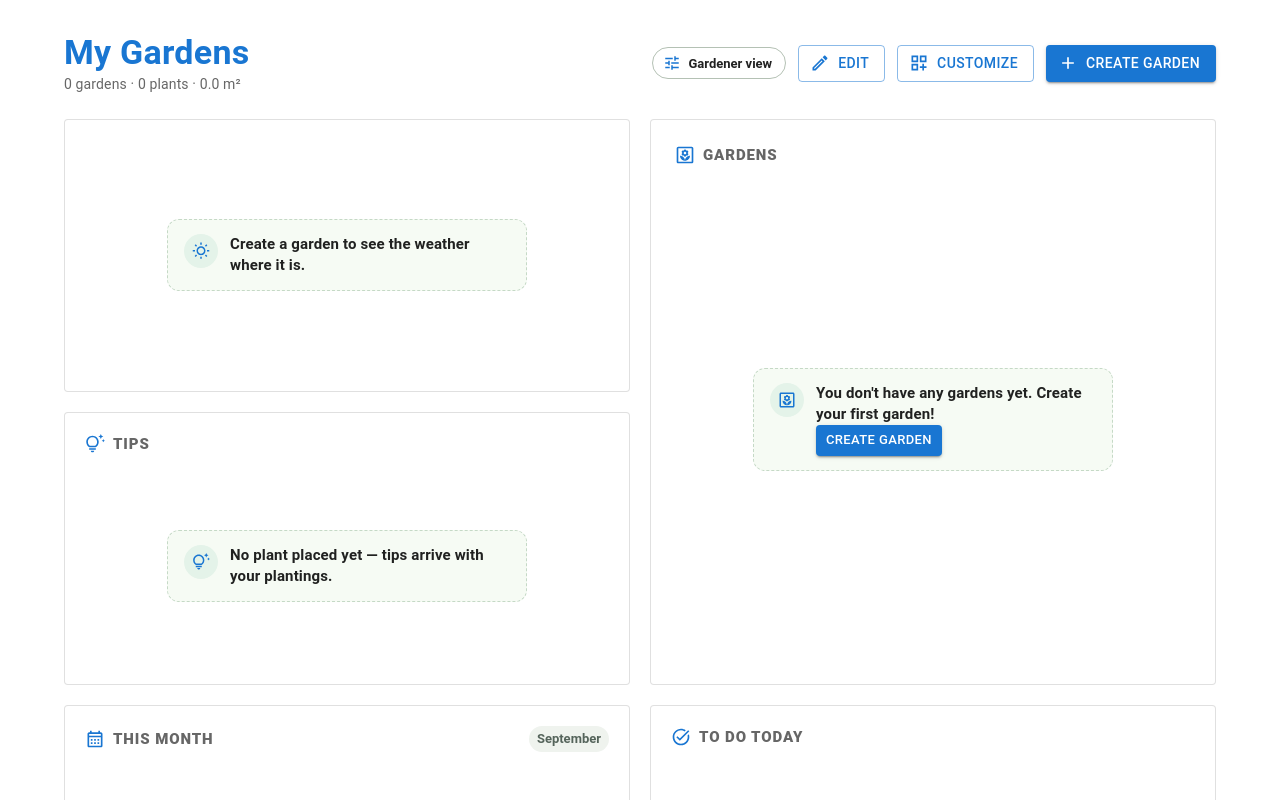
GardensDashboard — Edit mode chrome (SMA-336) › in Edit mode, Create Garden ends the mode, then opens the dialog — the pending layout still saved — and the focus comes back to it when the dialog closes (A-7,
What coordinates should you click on to do the following:
click the button "Edit"
I would click on:
 (842, 63)
Its box is [798,45,885,82].
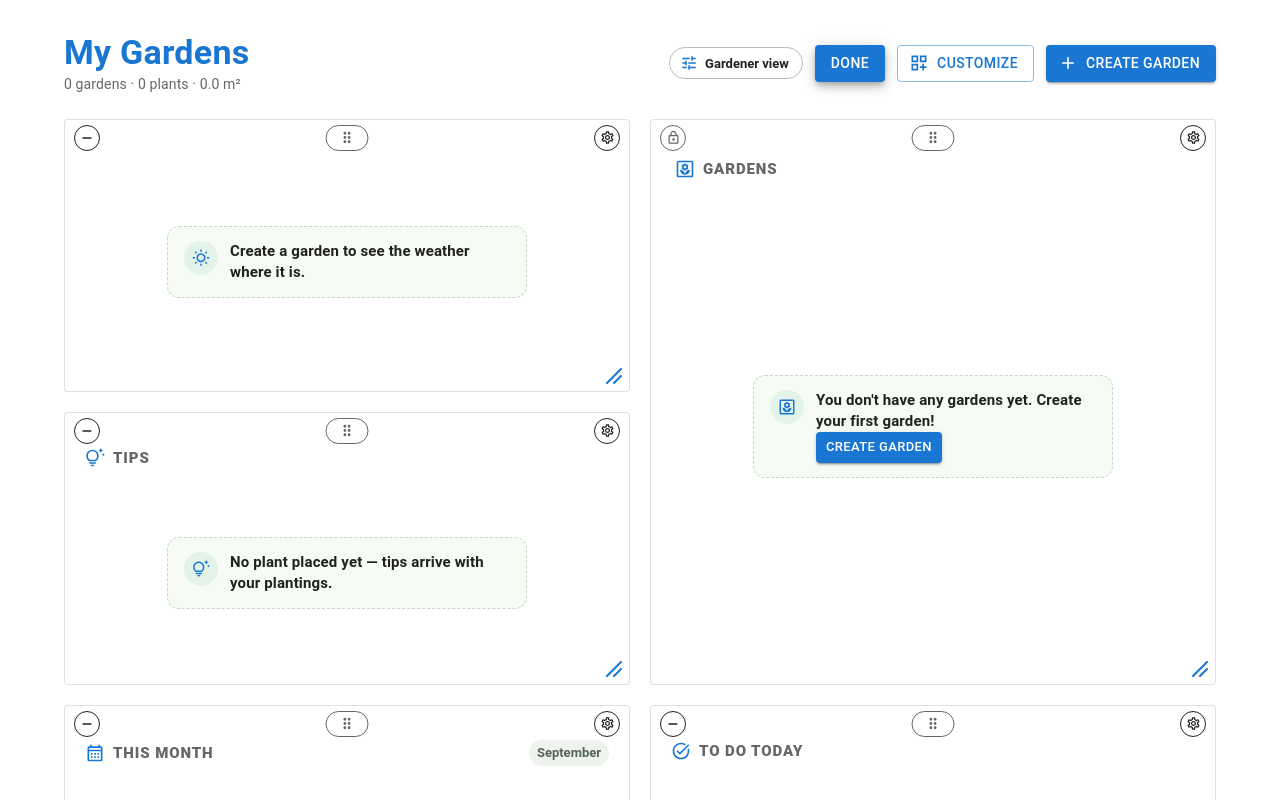
What coordinates should you click on to do the following:
click the button named "Hide Weather"
I would click on:
 (87, 138)
Its box is [74,125,100,151].
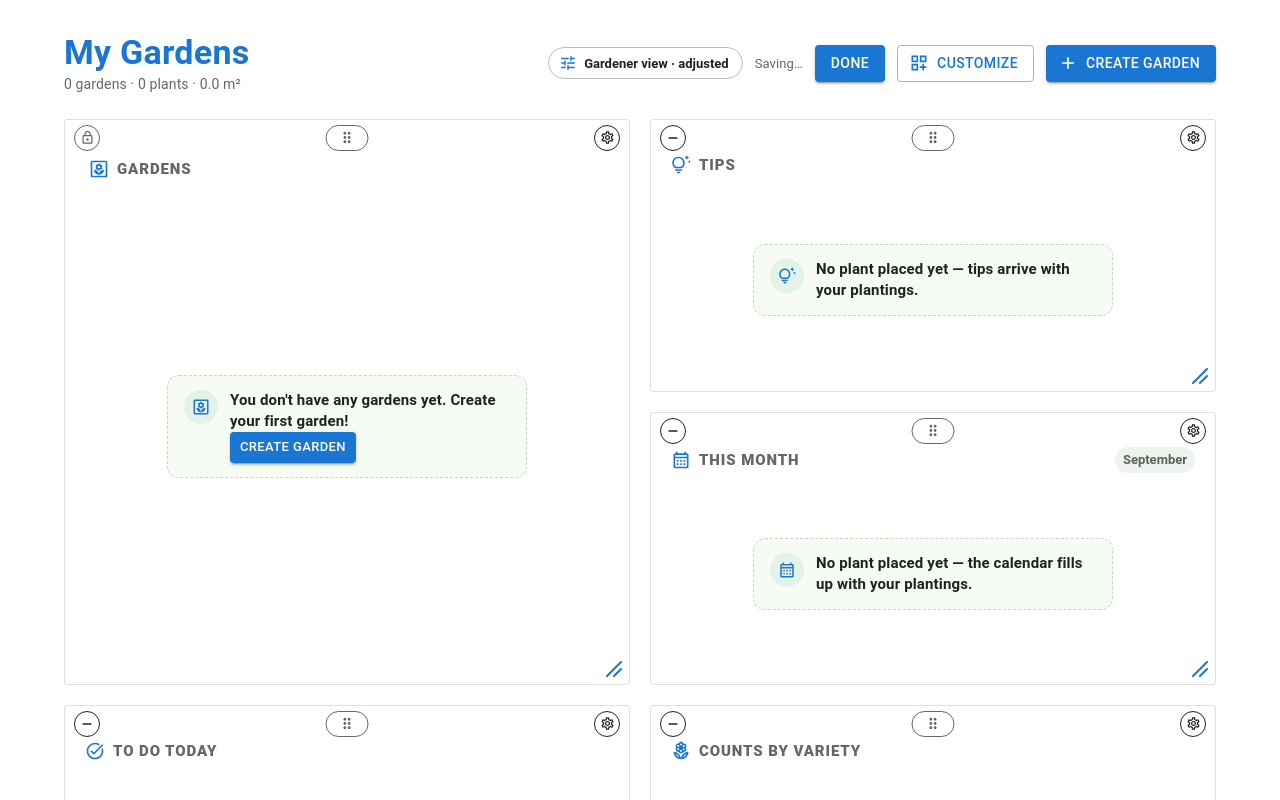
What coordinates should you click on to do the following:
click the button "Create Garden" in the row of "Saving…"
I would click on:
 (1131, 63)
Its box is [1046,45,1216,82].
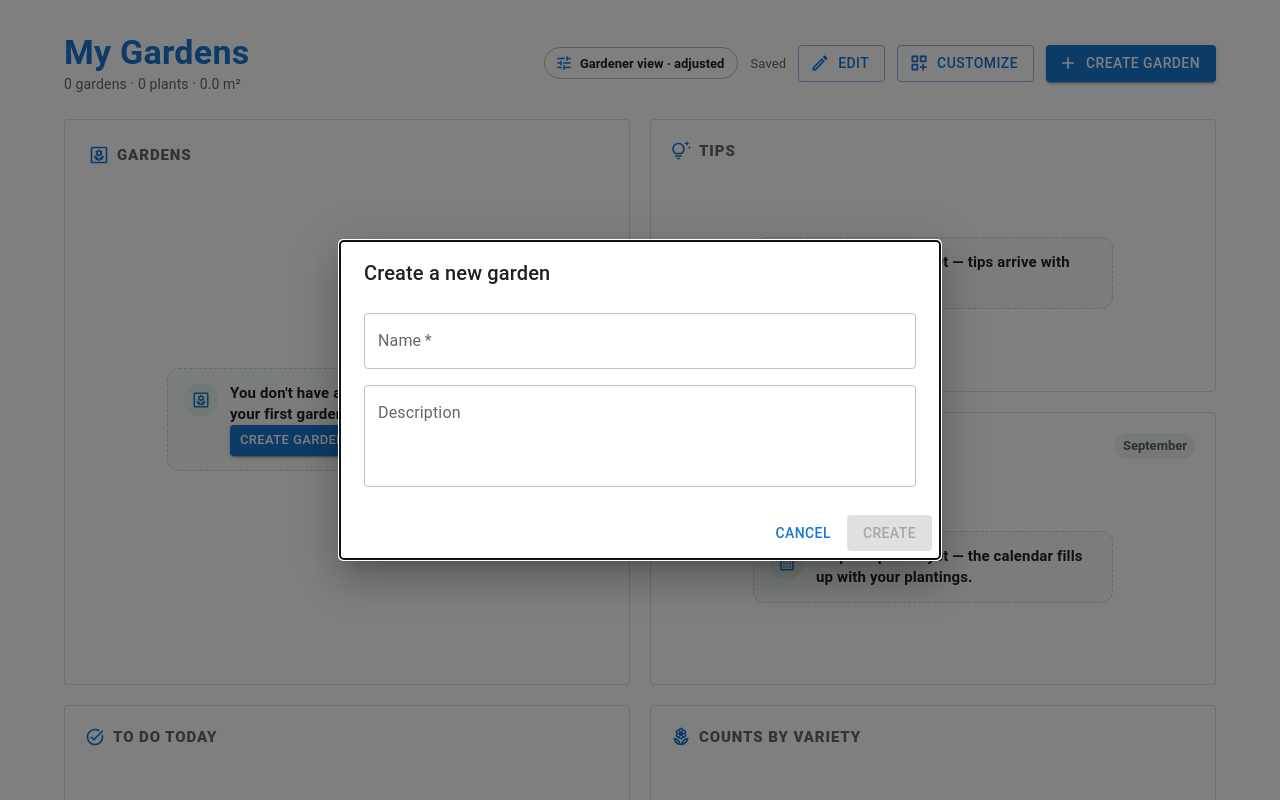
expect the button "Edit" is shown: met, box [798,45,885,82]
expect the button "Done" is gone: met
What coordinates should you click on to do the following:
click the button "Cancel"
I would click on:
 (803, 533)
Its box is [767,515,839,551].
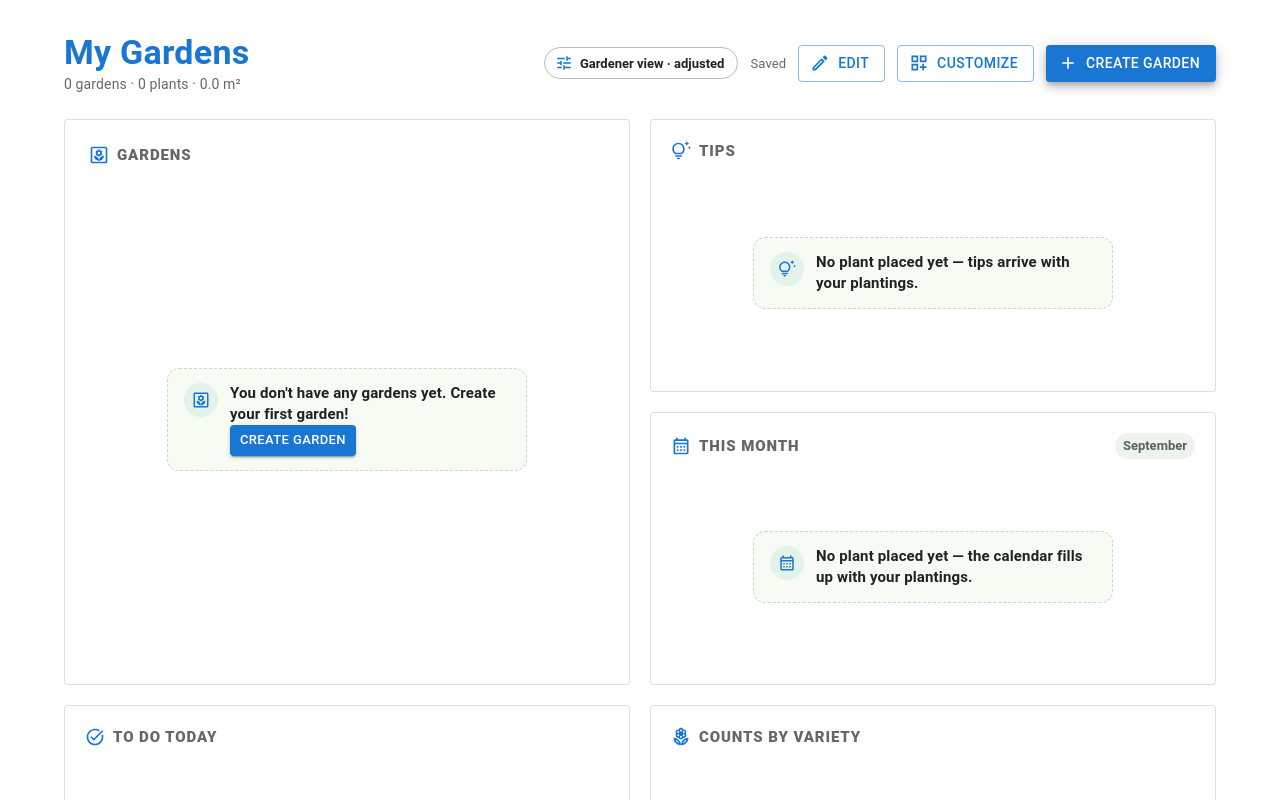
expect the heading "Create a new garden" is gone: met
